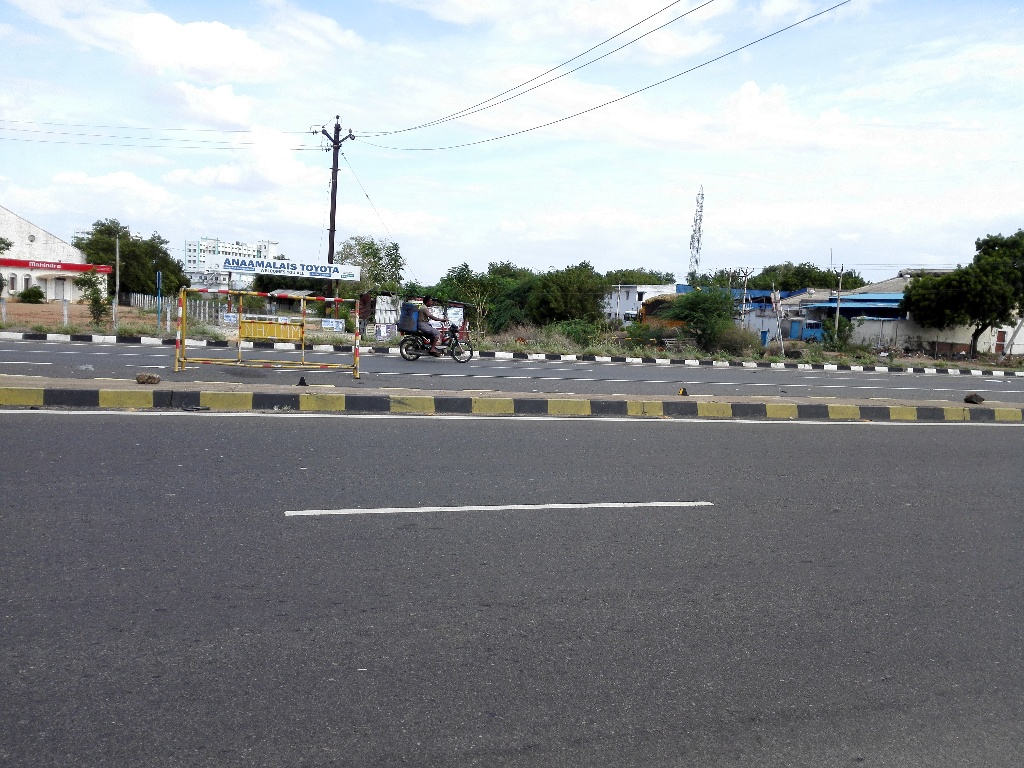biker: (385, 270, 487, 372)
nohelmet: (418, 287, 439, 312)
